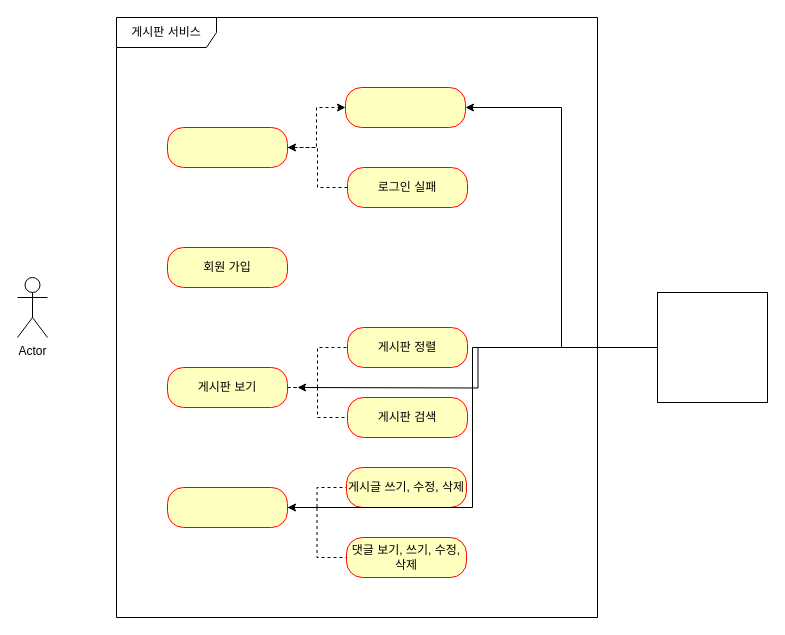
This 785x635 diagram has some shape labels left out. The centre of each missing label's shape, as x and y in pixels:
"DB" goes at (x=712, y=347).
"게시글 보기" goes at (x=227, y=507).
"인증" goes at (x=405, y=107).
"회원 로그인" goes at (x=227, y=147).
